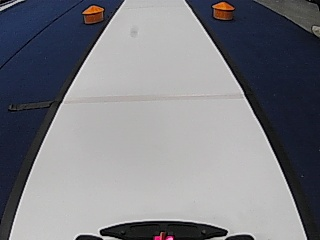granary: (210, 0, 235, 20), (80, 4, 104, 24)
